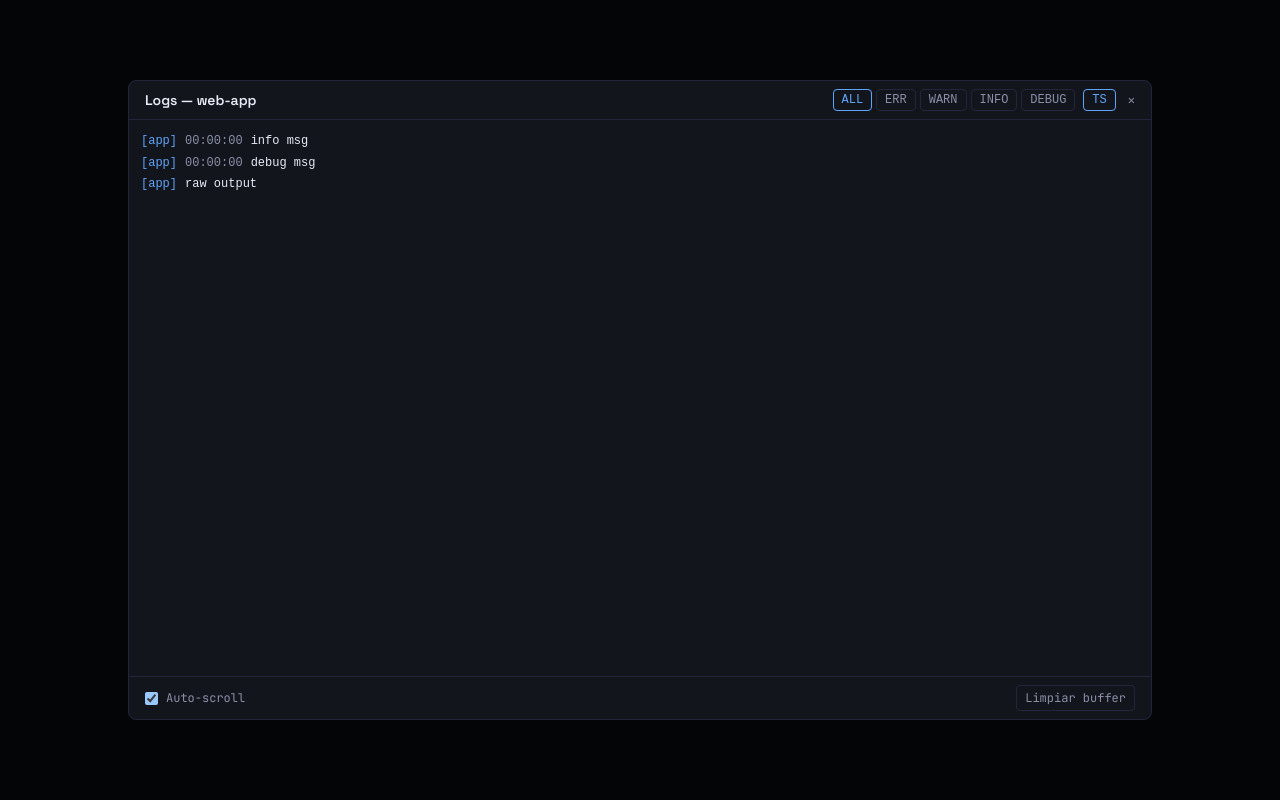
Test case: LogsModal — filtros de nivel › filtro INFO muestra nivel >= 30 y líneas no-JSON
Click the button with aria-label "Filtro INFO" at coordinates (994, 100), box 970,89 -> 1017,111
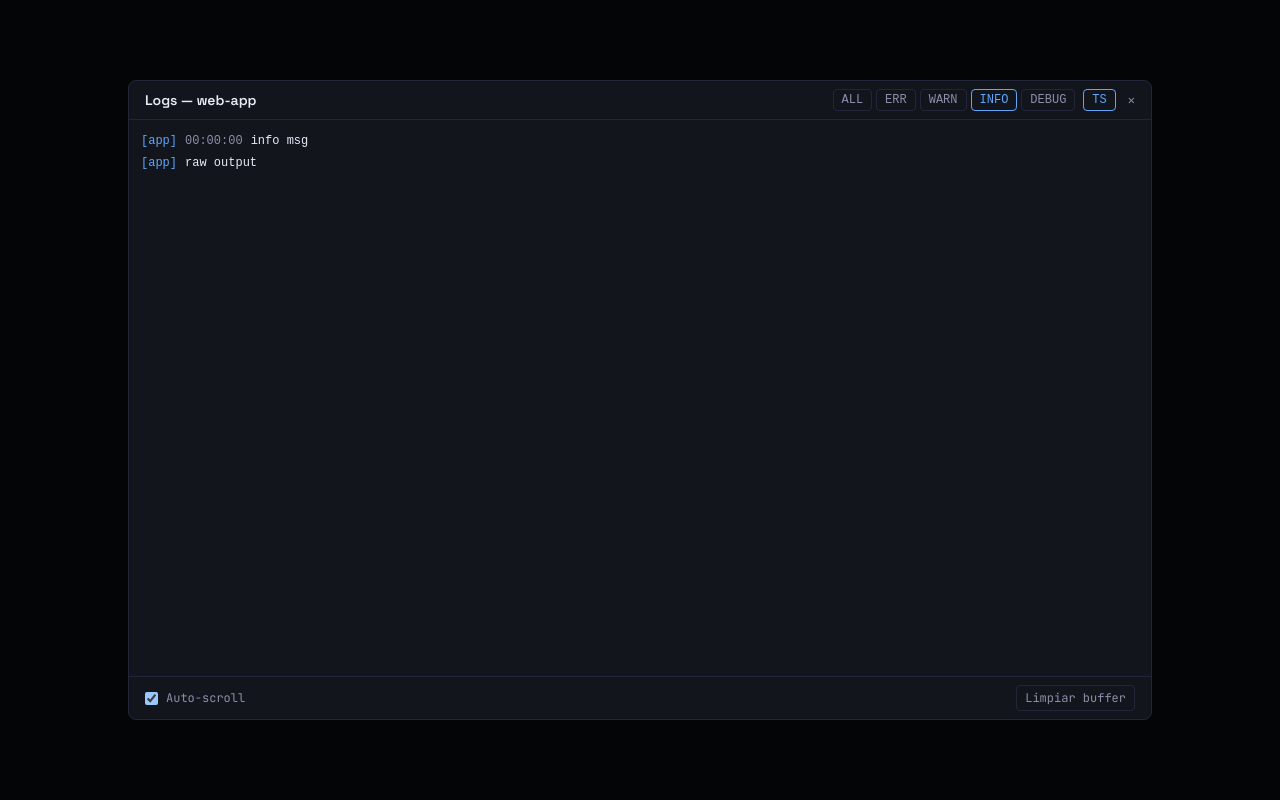
Expected: the text "info msg" is shown, 251,134 -> 308,148
Now the text "debug msg" is gone
Now the text "[app]raw output" is shown, box 141,156 -> 257,170
